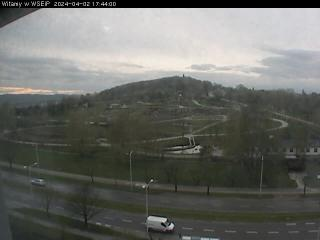car: (145, 215, 175, 233), (30, 176, 45, 187)
